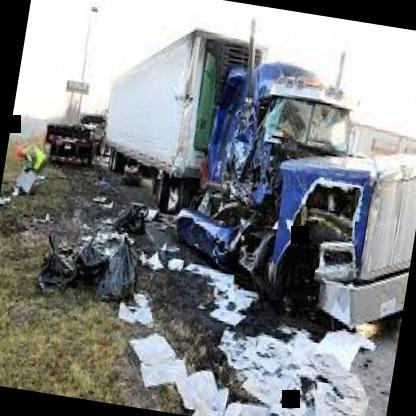accident: (152, 29, 416, 367)
